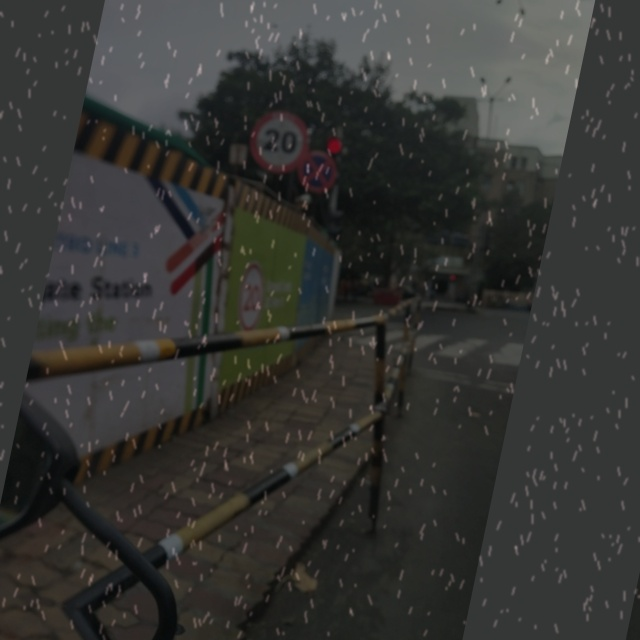Speed_Limit_20: (242, 105, 314, 175)
